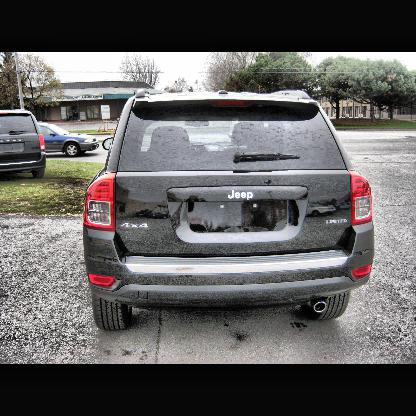Jeep Compass SUV 2012: (81, 95, 377, 334)
